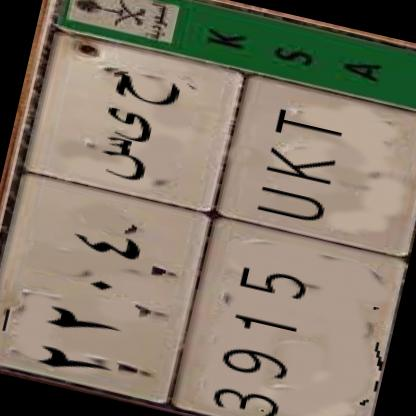english: (161, 65, 416, 416)
